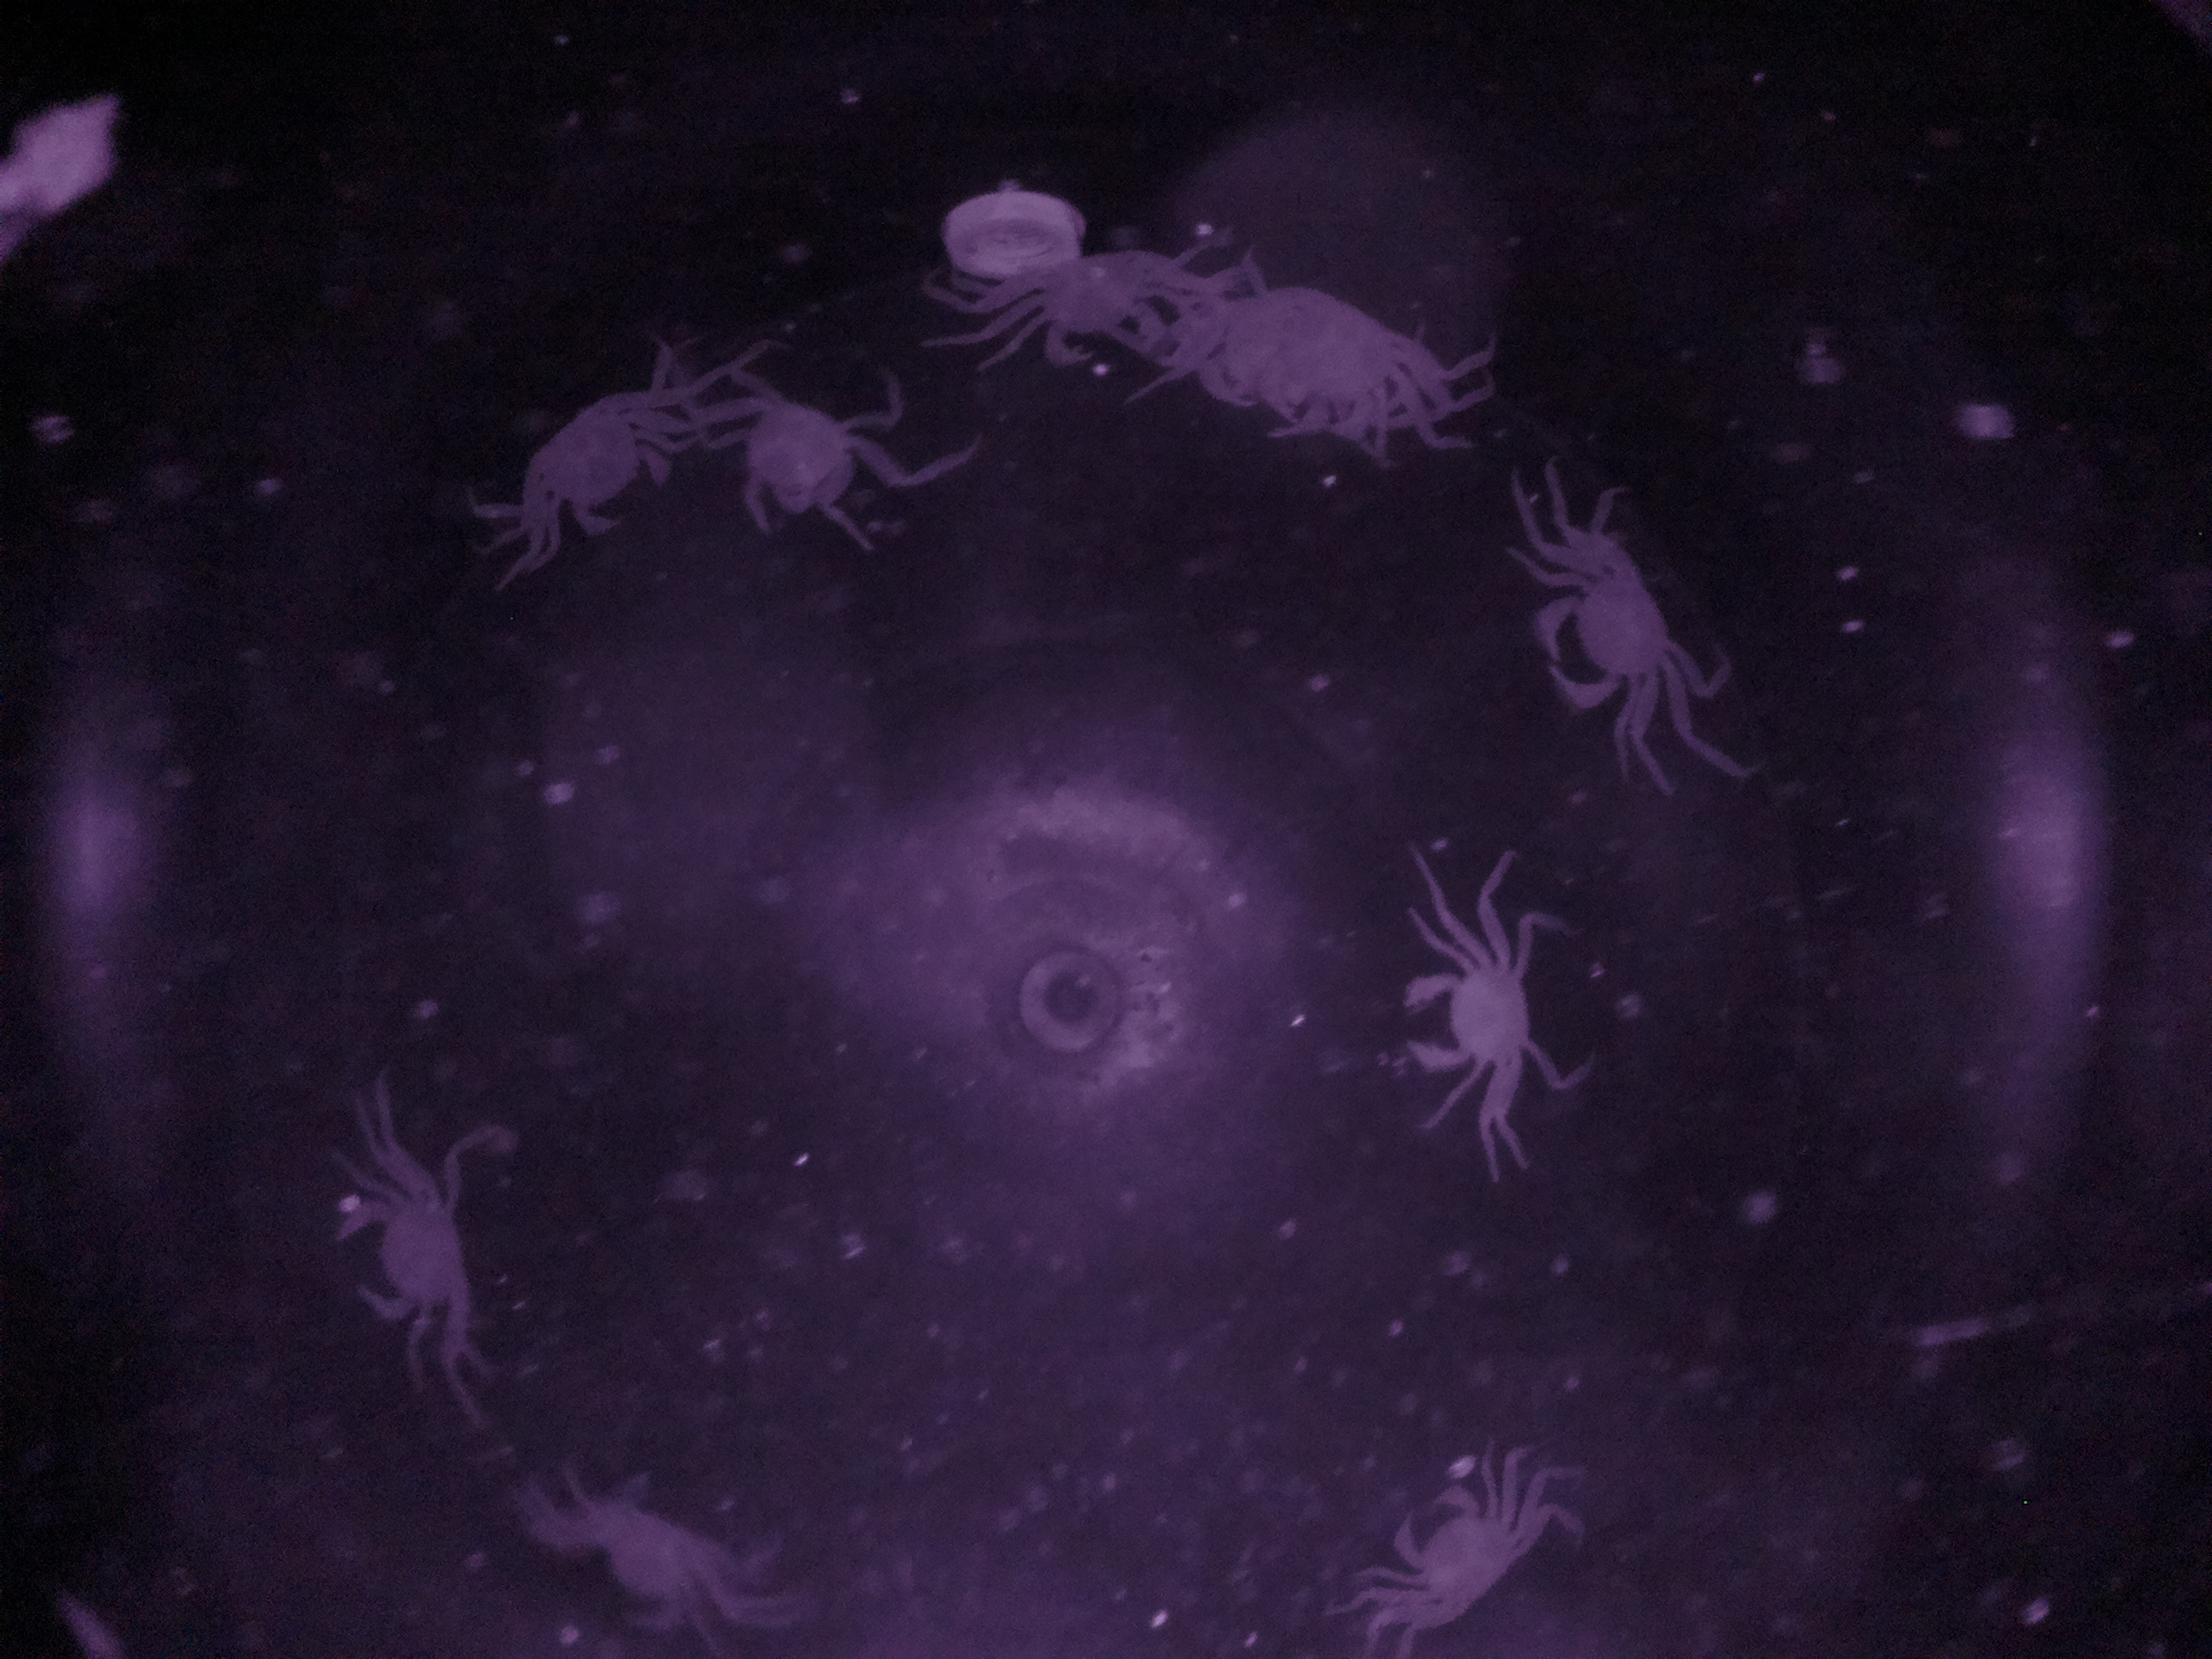Crab: (1507, 521, 1719, 748), (322, 1143, 523, 1364), (1378, 924, 1569, 1127), (517, 362, 691, 573), (1376, 1452, 1540, 1631)
